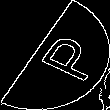P_NW: (16, 26, 94, 84)
